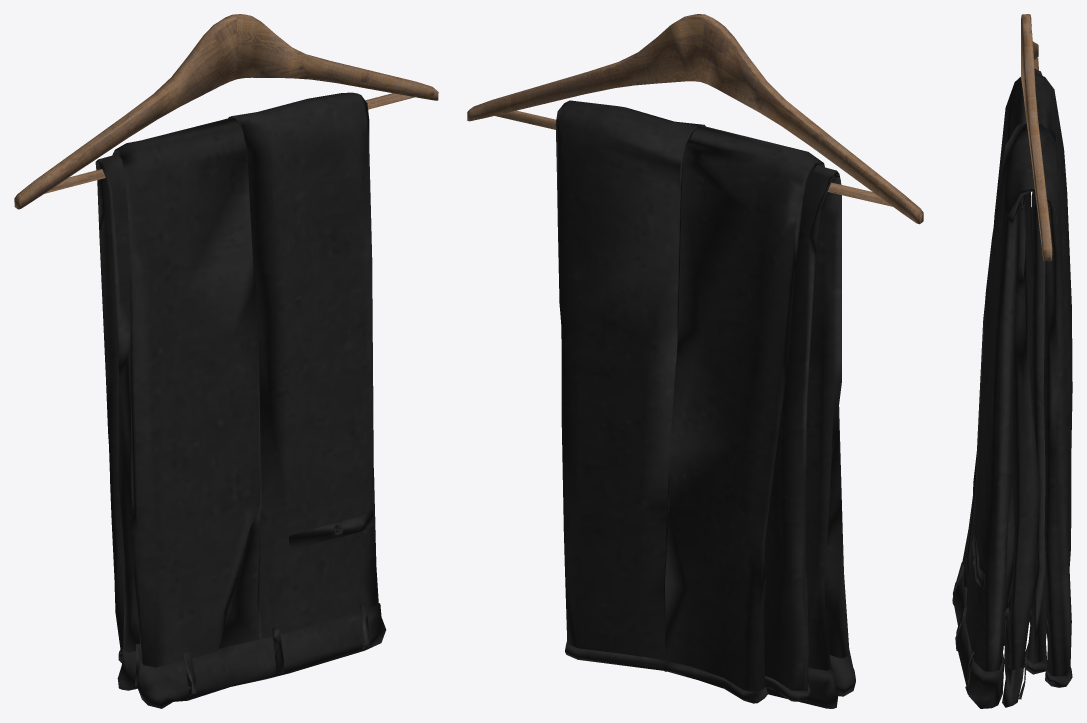
File: hvpants_pantsw_013.glb
3 renders of one model, left to right at view 1: azimuth 30°, elevation 25°; view 2: azimuth 150°, elevation 25°; view 3: azimuth 270°, elevation 25°, orthographic. The views are drawn at different scales.
Visible parts, largest first — view 1: pants_013_StaticMeshComponent0; view 2: pants_013_StaticMeshComponent0; view 3: pants_013_StaticMeshComponent0.
Part boxes in pixels (left/top/right/bottom): pants_013_StaticMeshComponent0: left=14, top=14, right=438, bottom=708; pants_013_StaticMeshComponent0: left=467, top=14, right=923, bottom=708; pants_013_StaticMeshComponent0: left=952, top=14, right=1072, bottom=708.
Size of the model in its own units: 0.4372 by 0.6263 by 0.1078.
2 materials, 2 textured.
